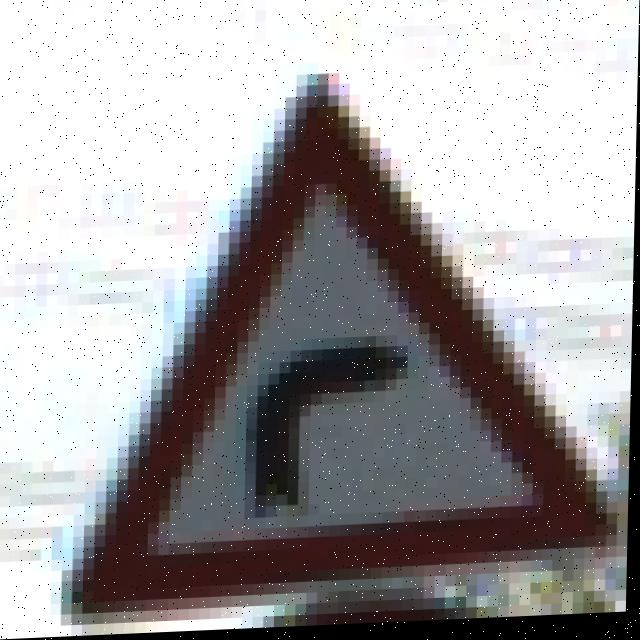right_turn: (78, 104, 627, 597)
